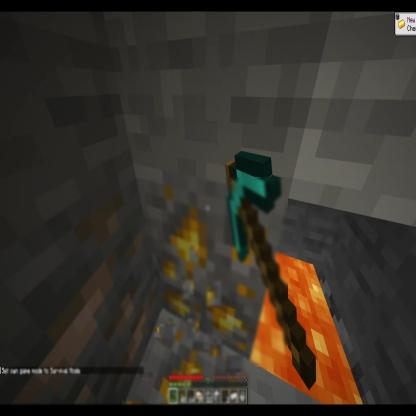gold ore: (148, 177, 288, 367), (122, 309, 246, 416)
iron ore: (4, 181, 162, 416)
